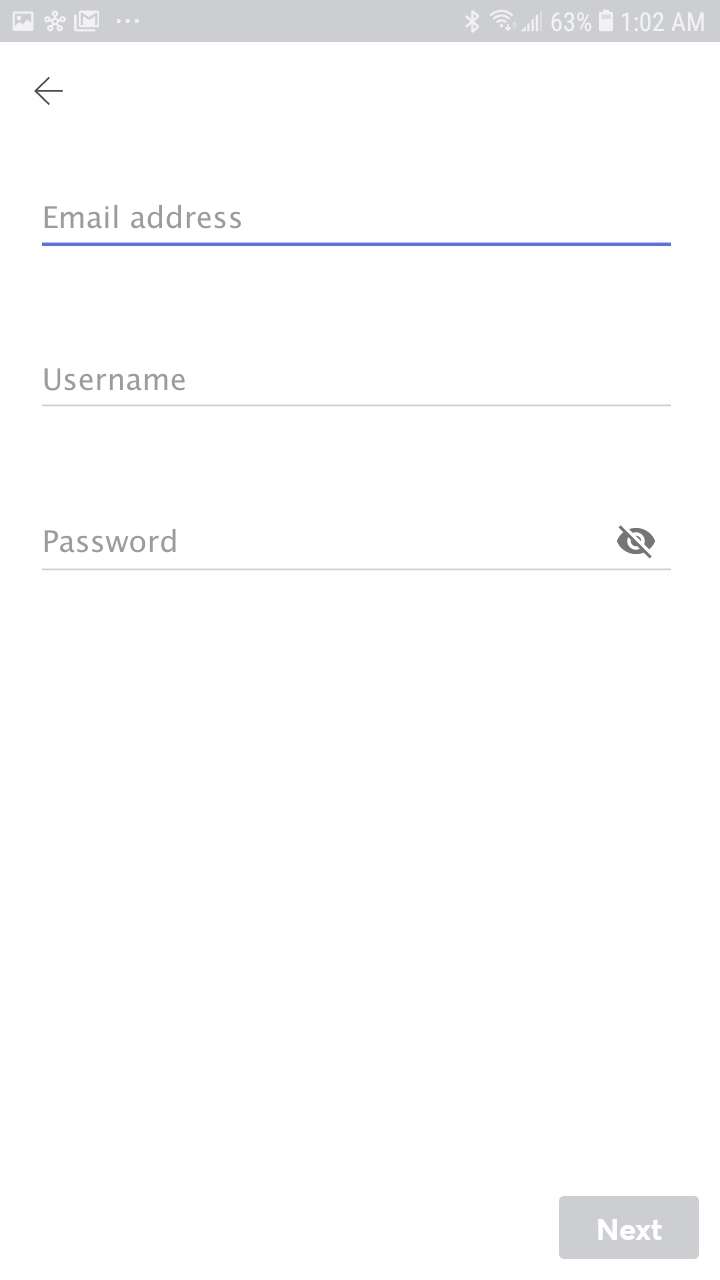EditText: (42, 524, 671, 571), (43, 205, 672, 247), (42, 368, 671, 407)
Icon: (617, 525, 656, 560), (34, 78, 64, 107)
Text: (45, 205, 242, 230), (44, 368, 186, 392), (45, 529, 177, 554)
TextButton: (558, 1195, 699, 1259)
UpperTaskBar: (1, 1, 720, 43)
